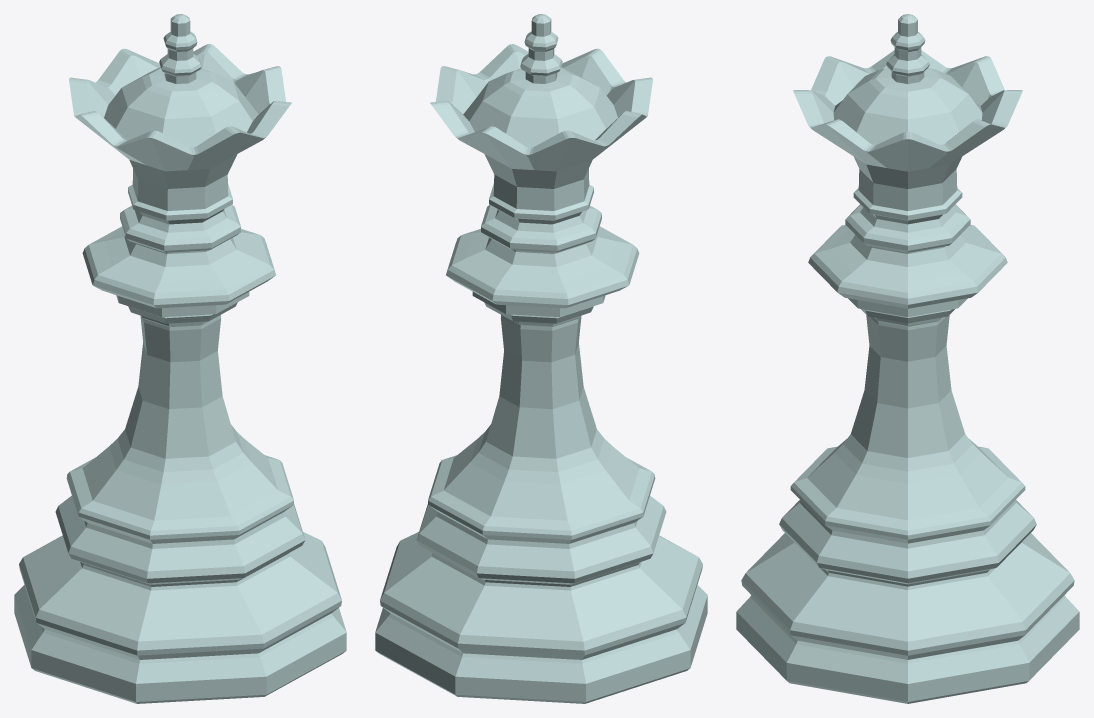
The model's file is white-queen.obj.
3 views of the same model, side by side, from view 1: azimuth 30°, elevation 25°; view 2: azimuth 150°, elevation 25°; view 3: azimuth 270°, elevation 25° (orthographic).
Parts seen in each view (by area): view 1: White_Queen_White_Square_0; view 2: White_Queen_White_Square_0; view 3: White_Queen_White_Square_0.
Part boxes in pixels (<box>): White_Queen_White_Square_0: <box>14,14,346,703</box>; White_Queen_White_Square_0: <box>375,14,707,703</box>; White_Queen_White_Square_0: <box>736,14,1079,703</box>.
Bounding box in the file's own units: 4 × 7.95 × 4.
